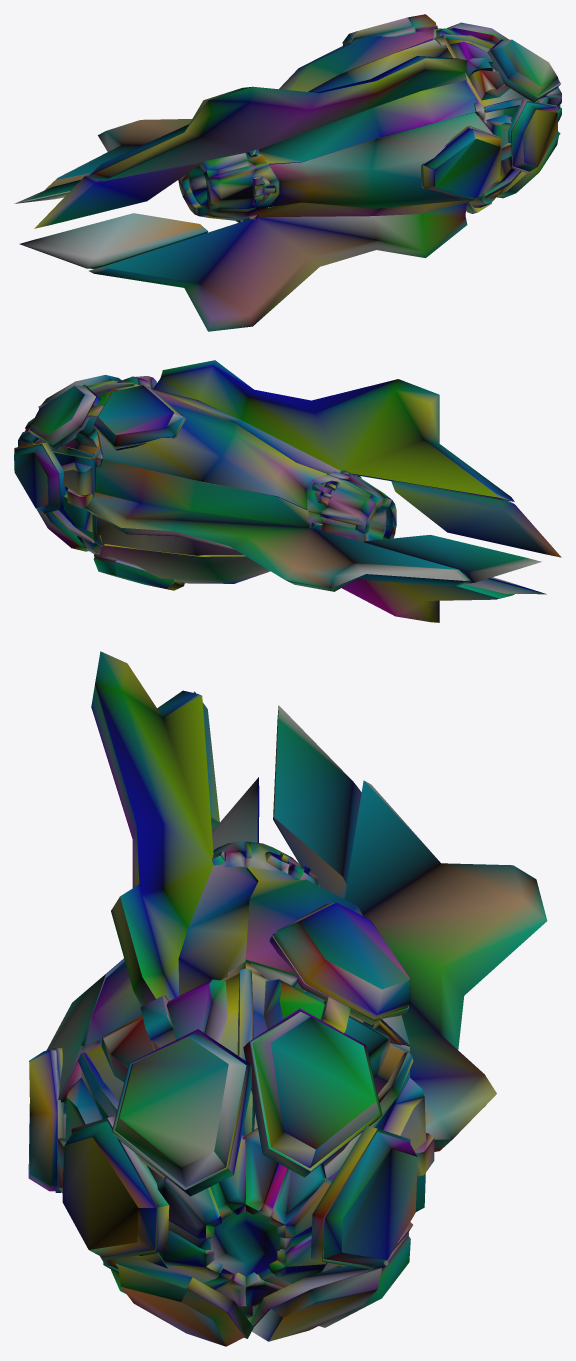
The model's file is ASE_CI_GenericPod_wCollision.gltf.
3 renders of one model, top to bottom at view 1: azimuth 30°, elevation 25°; view 2: azimuth 150°, elevation 25°; view 3: azimuth 270°, elevation 25°, orthographic. The views are drawn at different scales.
Visible parts, largest first — view 1: ASE_CI_GenericPod_wCollision; view 2: ASE_CI_GenericPod_wCollision; view 3: ASE_CI_GenericPod_wCollision.
Part boxes in pixels (x1,y1,x2,y2): ASE_CI_GenericPod_wCollision: (14,14,561,331); ASE_CI_GenericPod_wCollision: (14,360,561,622); ASE_CI_GenericPod_wCollision: (28,651,547,1346).
Size of the model in its own units: 4.82 by 2.09 by 2.07.
